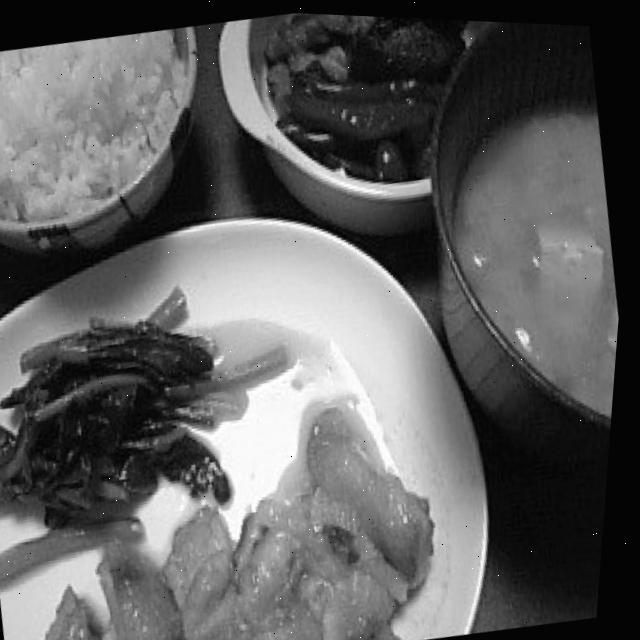蔬菜料理: (0, 250, 354, 614)
